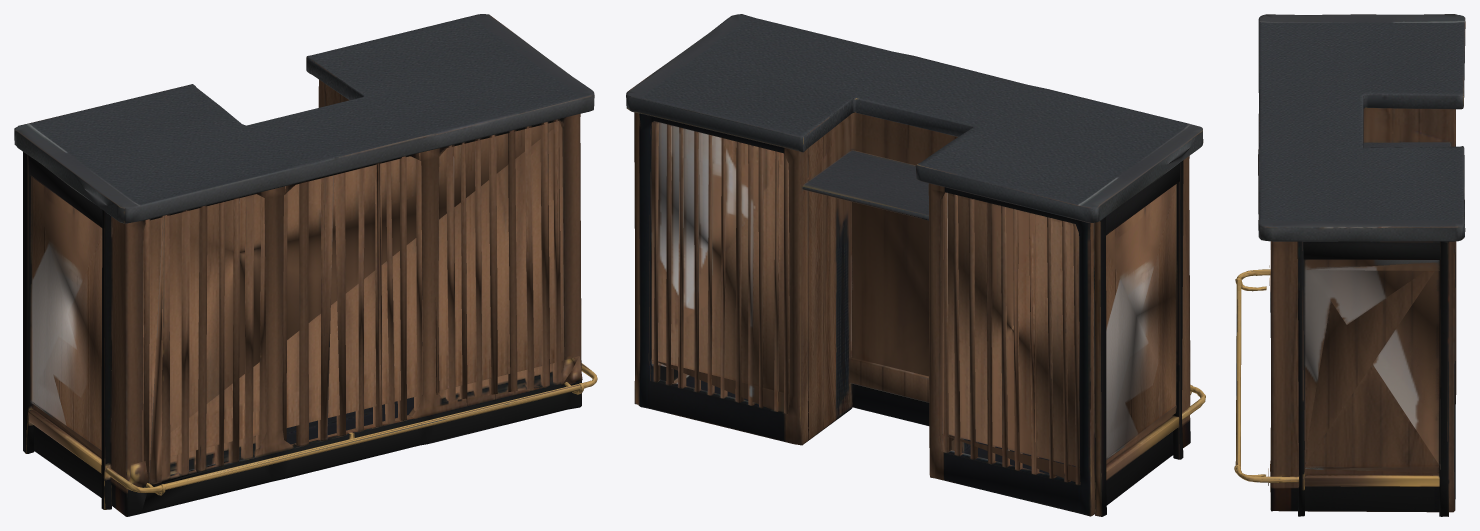
The model's file is industrial-bar-counter.glb.
3 views of the same model, side by side, from view 1: azimuth 30°, elevation 25°; view 2: azimuth 150°, elevation 25°; view 3: azimuth 270°, elevation 25° (orthographic). The views are drawn at different scales.
Bounding box in the file's own units: 1 × 0.6406 × 0.4601.
Materials: 1 (1 with a texture image).
